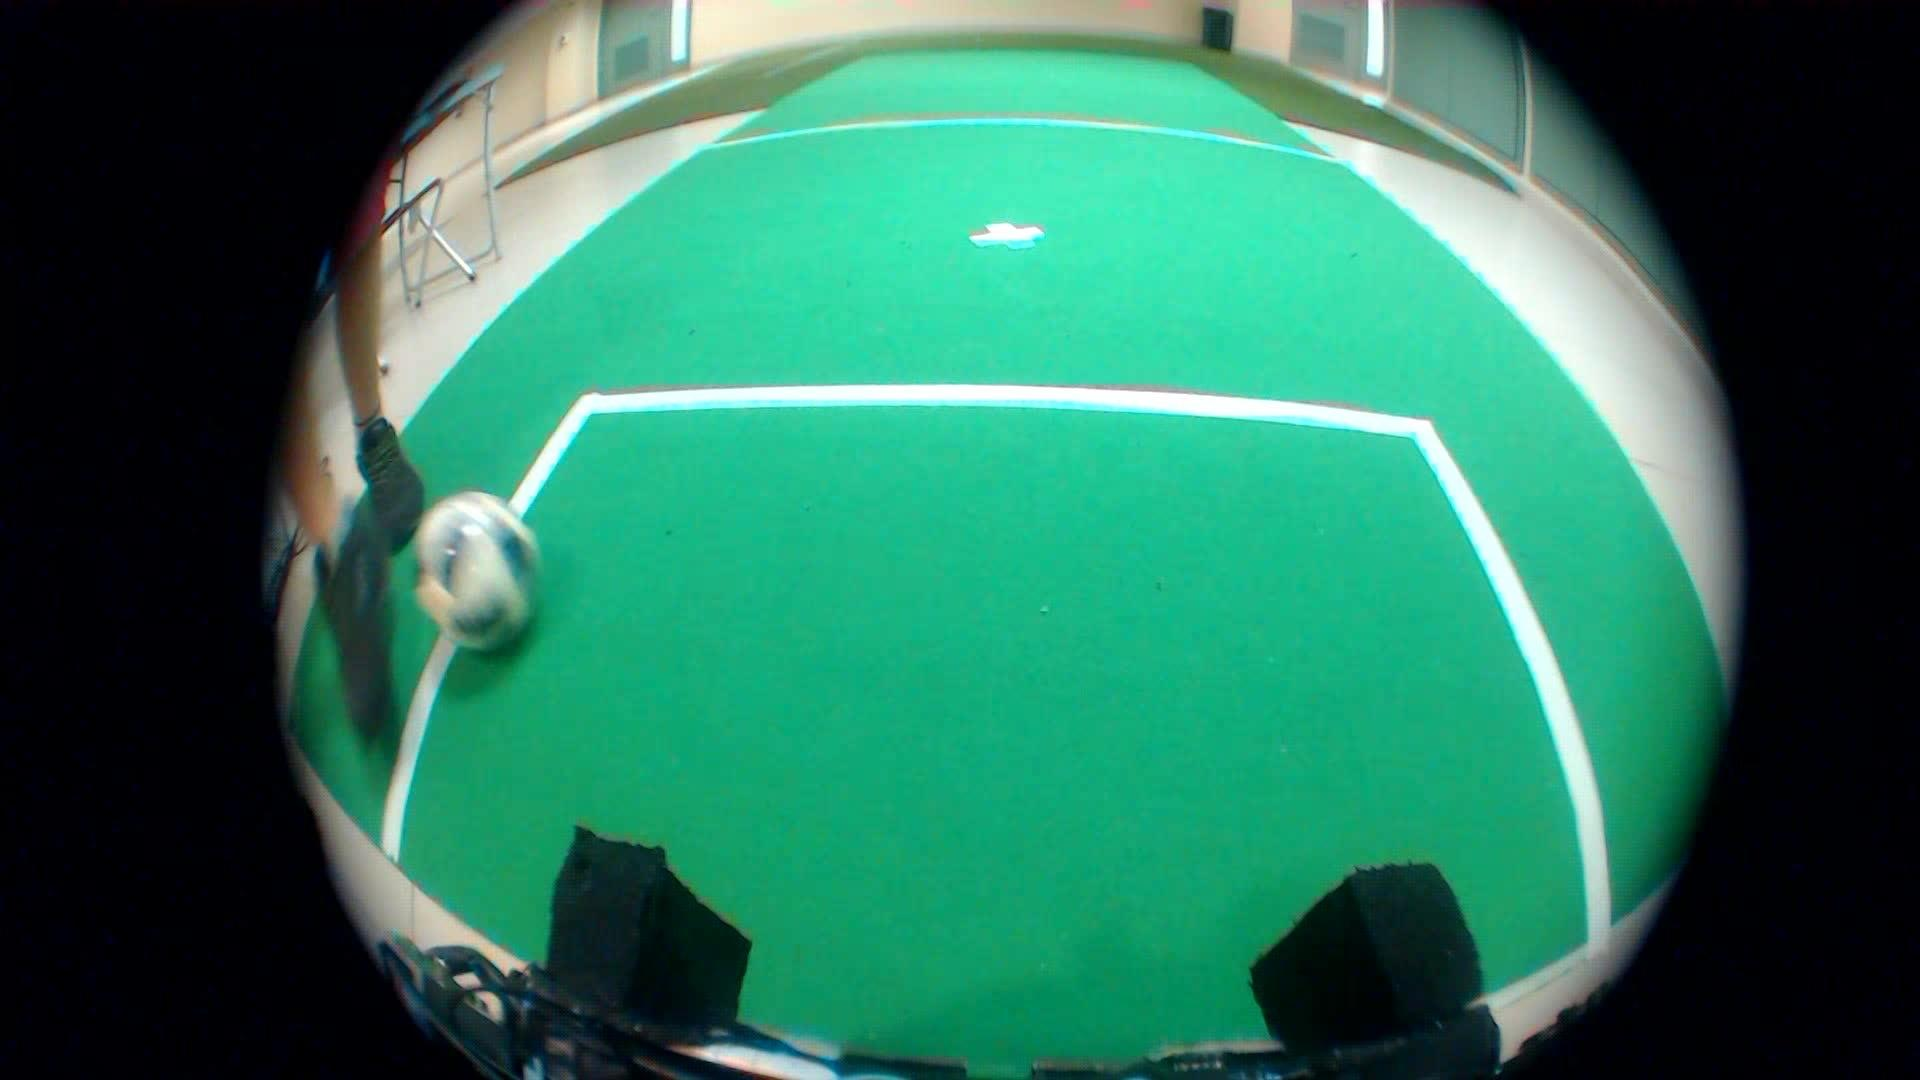ball: (406, 485, 556, 665)
